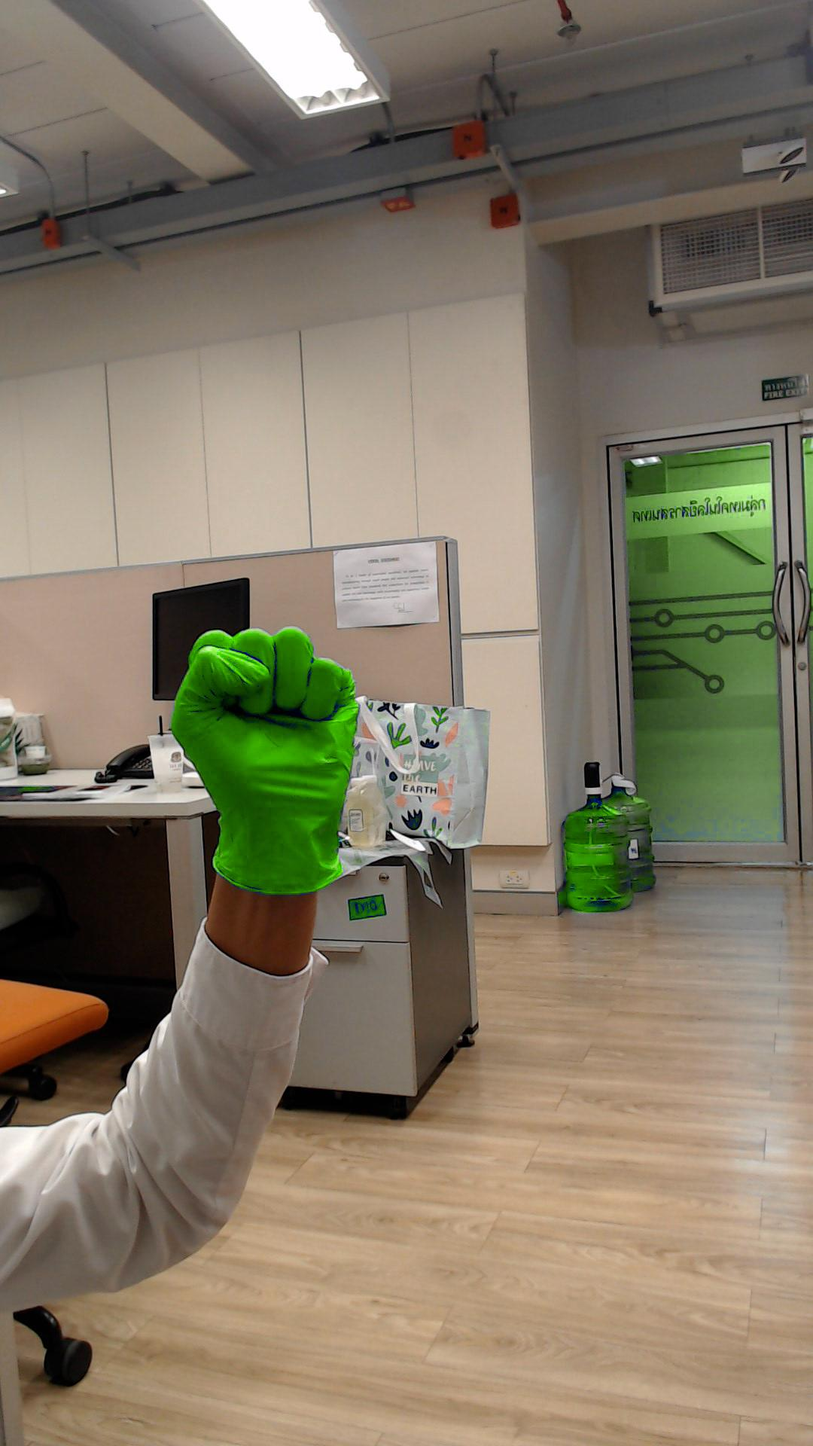gloves: (163, 614, 366, 851)
